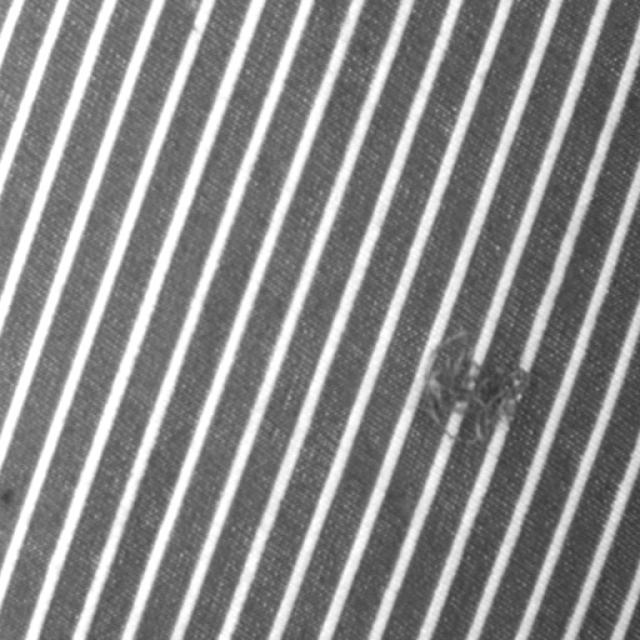Foreign-Body-Defect: (422, 330, 529, 441)
